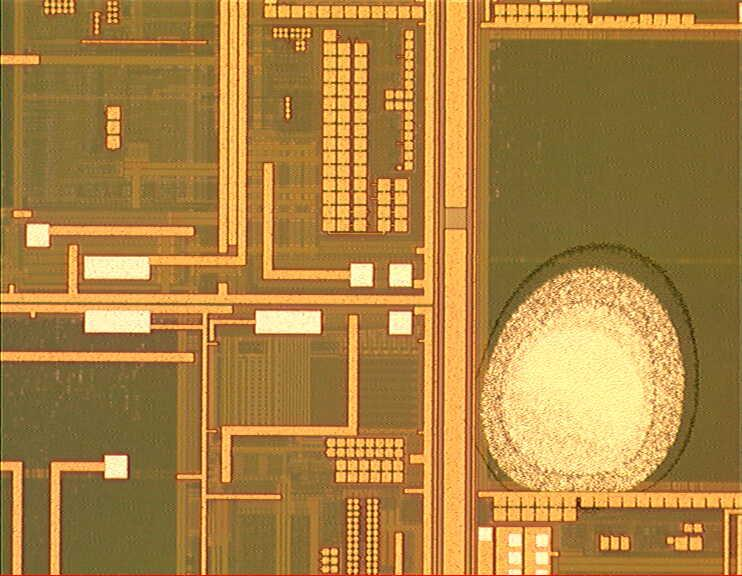BLOCK ETCH: (466, 237, 706, 519)
